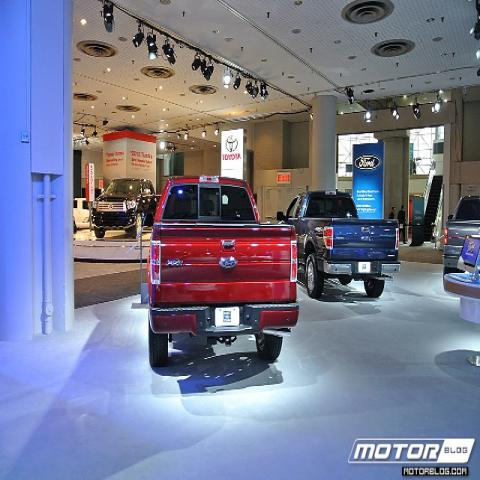truck: (145, 174, 298, 364), (275, 189, 402, 300), (92, 176, 162, 242), (442, 196, 479, 278), (73, 198, 94, 234)
